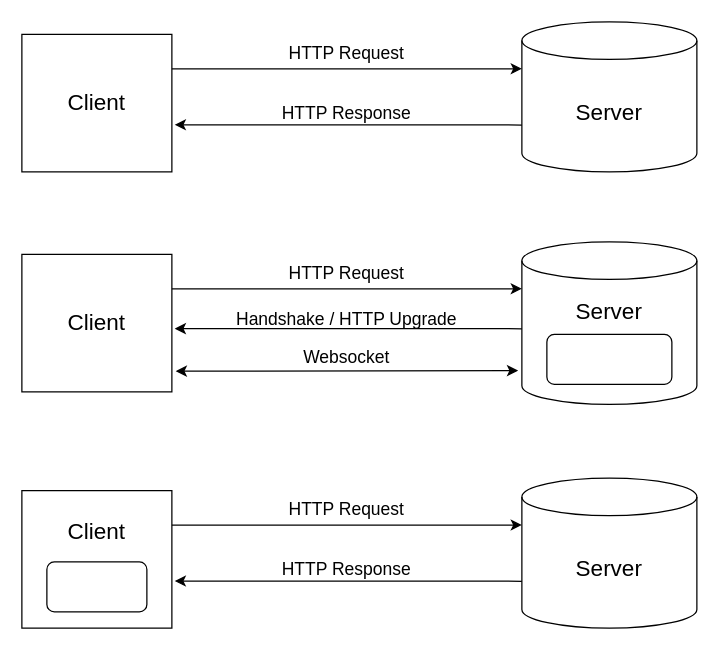
Image size: 719x650. Some labels were removed from this diagram. Here are the shapes that lost their labels. From the top down, the centre of each, then its label:
point 609,358: R & Python
point 96,586: Wasm
